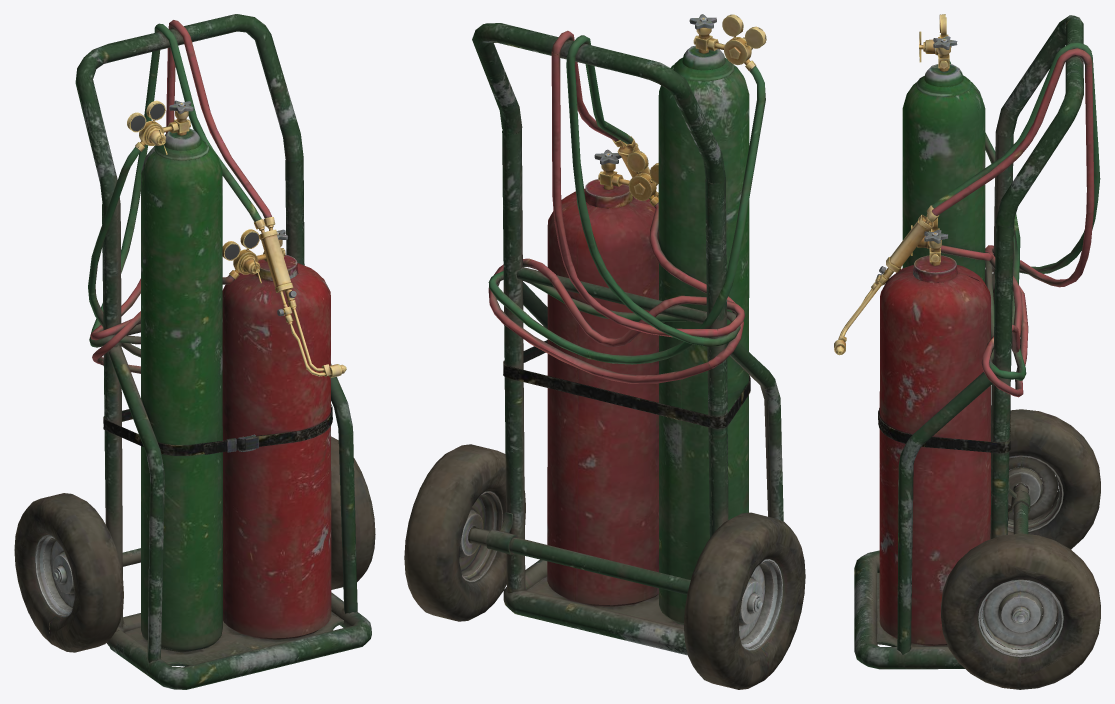
The model's file is kaynak_arabasi.gltf.
3 views of the same model, side by side, from view 1: azimuth 30°, elevation 25°; view 2: azimuth 150°, elevation 25°; view 3: azimuth 270°, elevation 25° (orthographic). The views are drawn at different scales.
Visible parts, largest first — view 1: kaynak_arabasi; view 2: kaynak_arabasi; view 3: kaynak_arabasi.
Part boxes in pixels (x1,y1,x2,y2): kaynak_arabasi: (14,14,375,689); kaynak_arabasi: (404,14,805,689); kaynak_arabasi: (834,14,1100,689).
Size of what is drawn, in the model's own units: 0.8382 by 1.56 by 0.6541.
2 materials, 2 textured.
